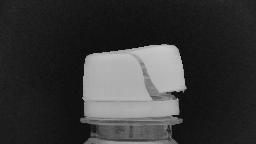Broken Cap: (76, 42, 186, 128)
